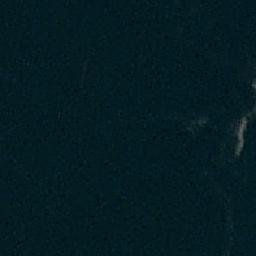debris: (231, 114, 250, 156)
